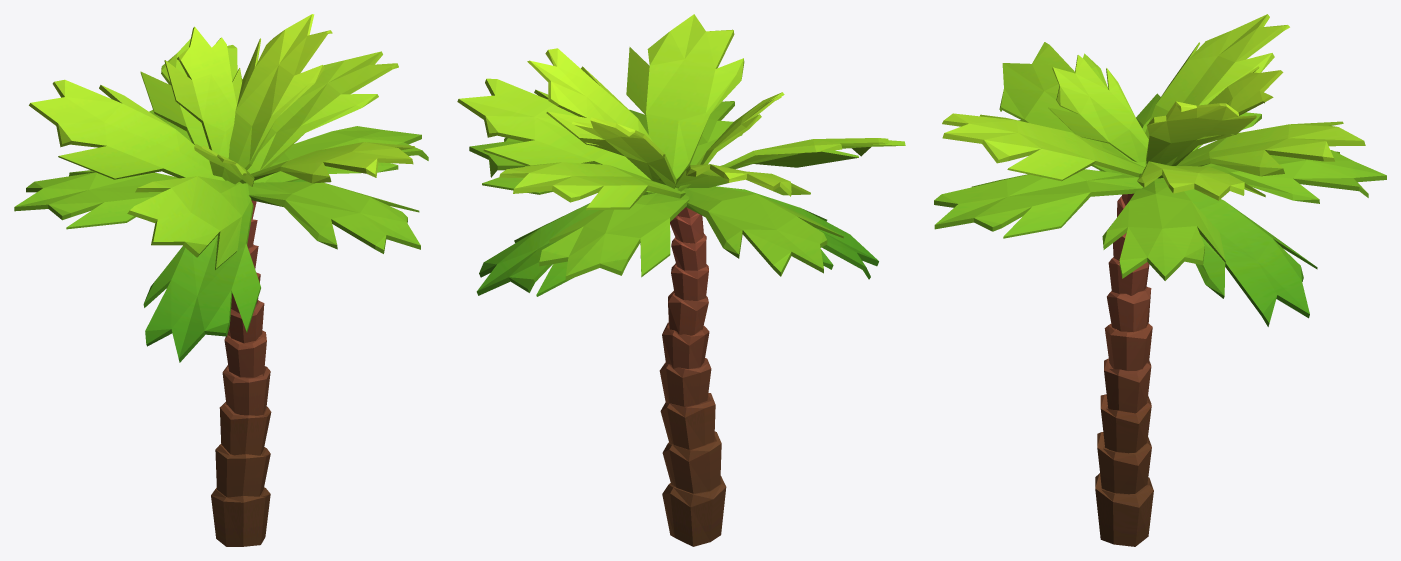
3 renders of one model, left to right at view 1: azimuth 30°, elevation 25°; view 2: azimuth 150°, elevation 25°; view 3: azimuth 270°, elevation 25°, orthographic. The views are drawn at different scales.
Parts seen in each view (by area): view 1: Palmtree1; view 2: Palmtree1; view 3: Palmtree1.
Boxes of the visible parts, left/top/right/bottom form: Palmtree1: left=14, top=14, right=428, bottom=546; Palmtree1: left=457, top=14, right=905, bottom=546; Palmtree1: left=934, top=14, right=1386, bottom=546.
Bounding box in the file's own units: 7.69 × 9.11 × 7.57.
1 material, 1 textured.
